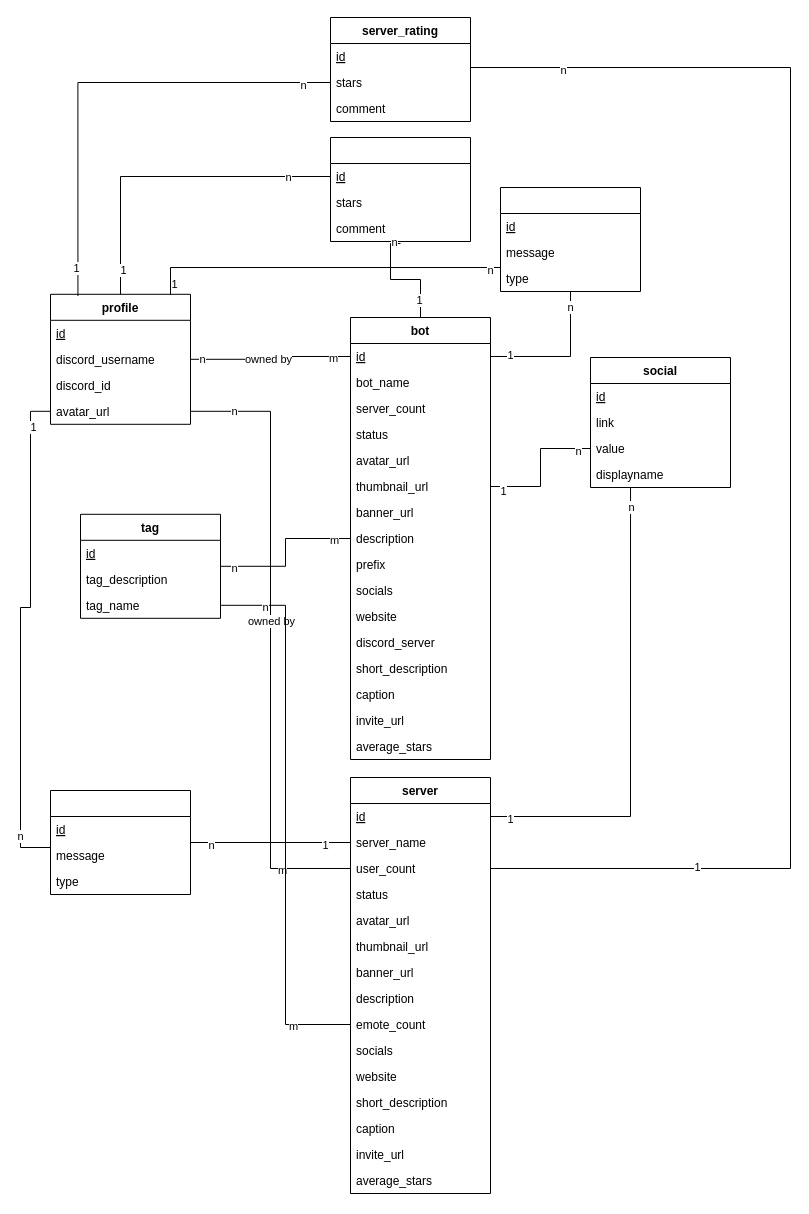
The diagram is 809 pixels wide and 1214 high, and some of its shapes have lost their labels. Here are the shapes that lost their labels. From the top down, the box of each, then its label:
(330, 136, 470, 242): bot_rating
(500, 186, 640, 292): bot_report
(50, 790, 190, 894): server_report
